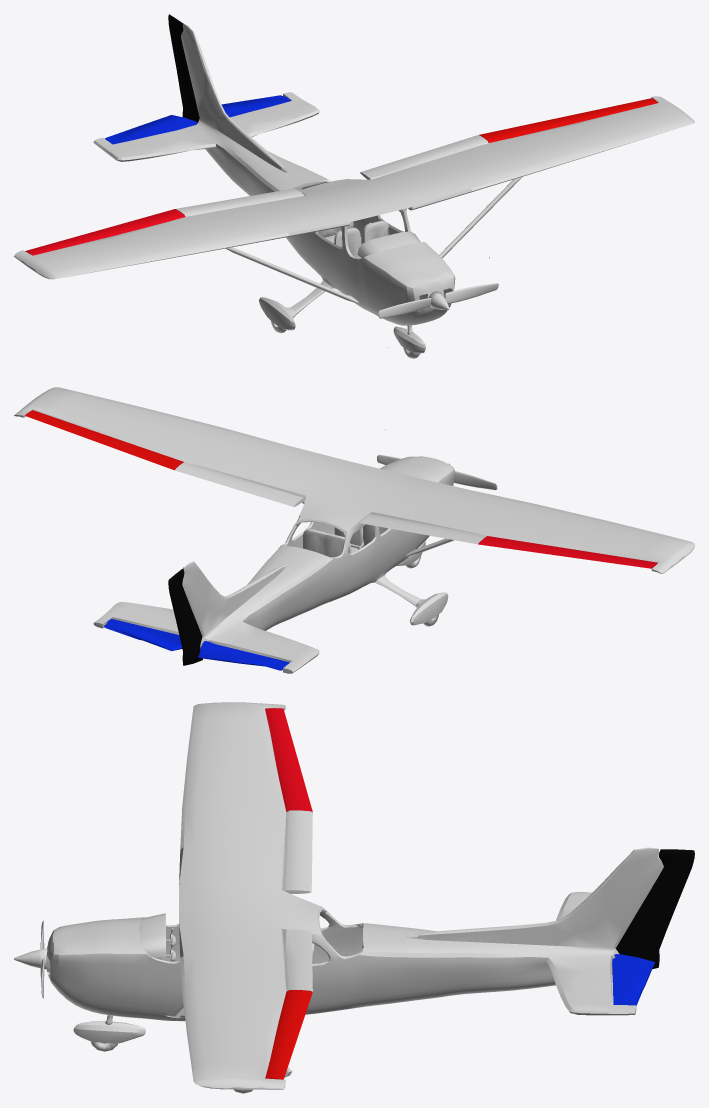
3 renders of one model, top to bottom at view 1: azimuth 30°, elevation 25°; view 2: azimuth 150°, elevation 25°; view 3: azimuth 270°, elevation 25°, orthographic. The views are drawn at different scales.
Visible parts, largest first — view 1: Frame, Cockpit, FLAPS, ELEVATOR, LEFT_AILERON, RIGHT_AILERON, PROP, RUDDER; view 2: Frame, FLAPS, ELEVATOR, Cockpit, RUDDER, LEFT_AILERON, RIGHT_AILERON, PROP; view 3: Frame, RUDDER, FLAPS, Cockpit, RIGHT_AILERON, LEFT_AILERON, ELEVATOR, PROP.
Part boxes in pixels (<box>): Frame: <box>14,23,694,330</box>; Cockpit: <box>226,169,522,358</box>; FLAPS: <box>176,135,488,217</box>; ELEVATOR: <box>105,95,290,144</box>; LEFT_AILERON: <box>479,98,657,142</box>; RIGHT_AILERON: <box>25,209,185,255</box>; PROP: <box>378,283,498,318</box>; RUDDER: <box>168,14,199,122</box>; Frame: <box>14,387,694,673</box>; FLAPS: <box>175,462,486,544</box>; ELEVATOR: <box>103,619,289,670</box>; Cockpit: <box>302,429,454,626</box>; RUDDER: <box>168,569,202,665</box>; LEFT_AILERON: <box>25,410,183,470</box>; RIGHT_AILERON: <box>478,536,657,568</box>; PROP: <box>377,454,497,490</box>; Frame: <box>46,702,663,1089</box>; RUDDER: <box>615,849,694,969</box>; FLAPS: <box>283,810,312,991</box>; Cockpit: <box>43,810,314,1093</box>; RIGHT_AILERON: <box>265,708,312,811</box>; LEFT_AILERON: <box>265,990,312,1079</box>; ELEVATOR: <box>612,954,654,1005</box>; PROP: <box>14,920,47,998</box>.
Size of the model in its own units: 10.94 by 2.7 by 8.2.
